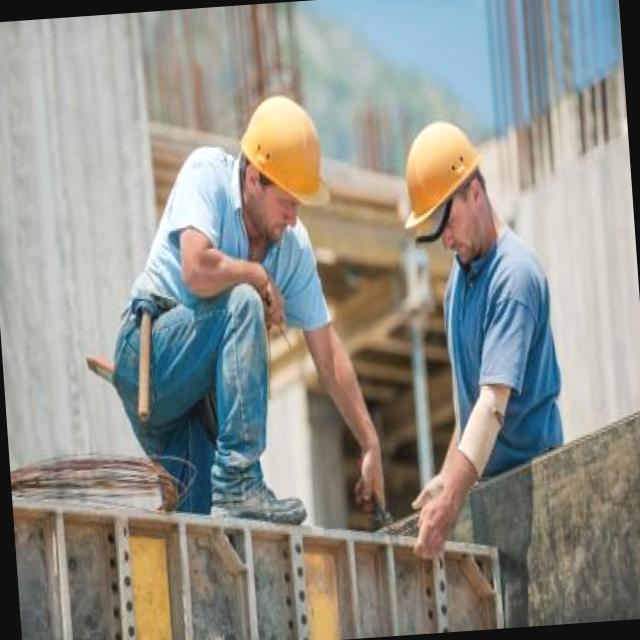helmet: (234, 90, 334, 220), (392, 113, 492, 234)
no-vest: (436, 239, 559, 462), (138, 186, 318, 332)
